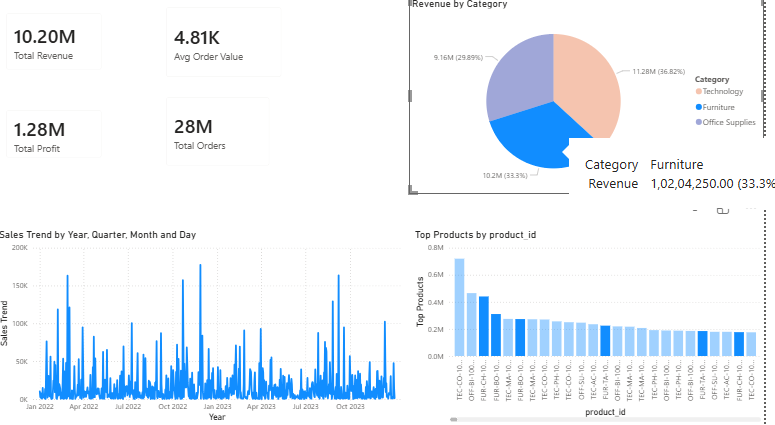

This screenshot's page, from the dashboard's own definition file:
{"tool":"powerbi","page":{"name":"Page 1","canvas":[1280,720],"ordinal":0},"visuals":[{"type":"cardVisual","fields":{"Data":["Sum(fact_sales.revenue)"]},"box":[0,10,193.3,128.3],"z":0},{"type":"cardVisual","fields":{"Data":["Sum(fact_sales.profit)"]},"box":[0,171.7,193.3,113.3],"z":1000},{"type":"lineChart","fields":{"Y":["Sum(fact_sales.revenue)"],"Category":["dim_date.order_date.Variation.Date Hierarchy.Year","dim_date.order_date.Variation.Date Hierarchy.Quarter","dim_date.order_date.Variation.Date Hierarchy.Month","dim_date.order_date.Variation.Date Hierarchy.Day"]},"box":[0,385,693.3,328.3],"z":2000},{"type":"clusteredColumnChart","fields":{"Category":["dim_product.product_id"],"Y":["Sum(fact_sales.revenue)"]},"box":[693.3,385,586.7,328.3],"z":3000},{"type":"pieChart","fields":{"Category":["dim_product.category"],"Y":["Sum(fact_sales.revenue)"]},"box":[688.3,0,591.7,328.3],"z":4000},{"type":"cardVisual","fields":{"Data":["Sum(fact_sales.order_id)"]},"box":[266.7,150,206.7,148.3],"z":5000},{"type":"cardVisual","fields":{"Data":["dim_date.Average Order Value"]},"box":[266.7,0,226.7,150],"z":6000}]}

Visuals, with their boxes in screenshot pixels (x1, y1, x2, y2), scaled from the page's 1280x720 canvas onto the 775x425 screenshot:
cardVisual - Sum(fact_sales.revenue): box=[0, 6, 117, 82]
cardVisual - Sum(fact_sales.profit): box=[0, 101, 117, 168]
lineChart - Sum(fact_sales.revenue) x dim_date.order_date.Variation.Date Hierarchy.Year: box=[0, 227, 420, 421]
clusteredColumnChart - dim_product.product_id x Sum(fact_sales.revenue): box=[420, 227, 774, 421]
pieChart - dim_product.category x Sum(fact_sales.revenue): box=[417, 0, 774, 194]
cardVisual - Sum(fact_sales.order_id): box=[161, 89, 287, 176]
cardVisual - dim_date.Average Order Value: box=[161, 0, 299, 89]
